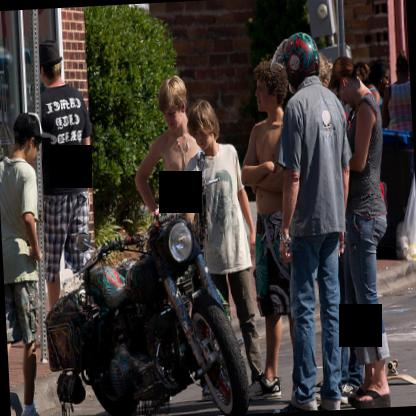suitcase: (45, 304, 106, 371)
